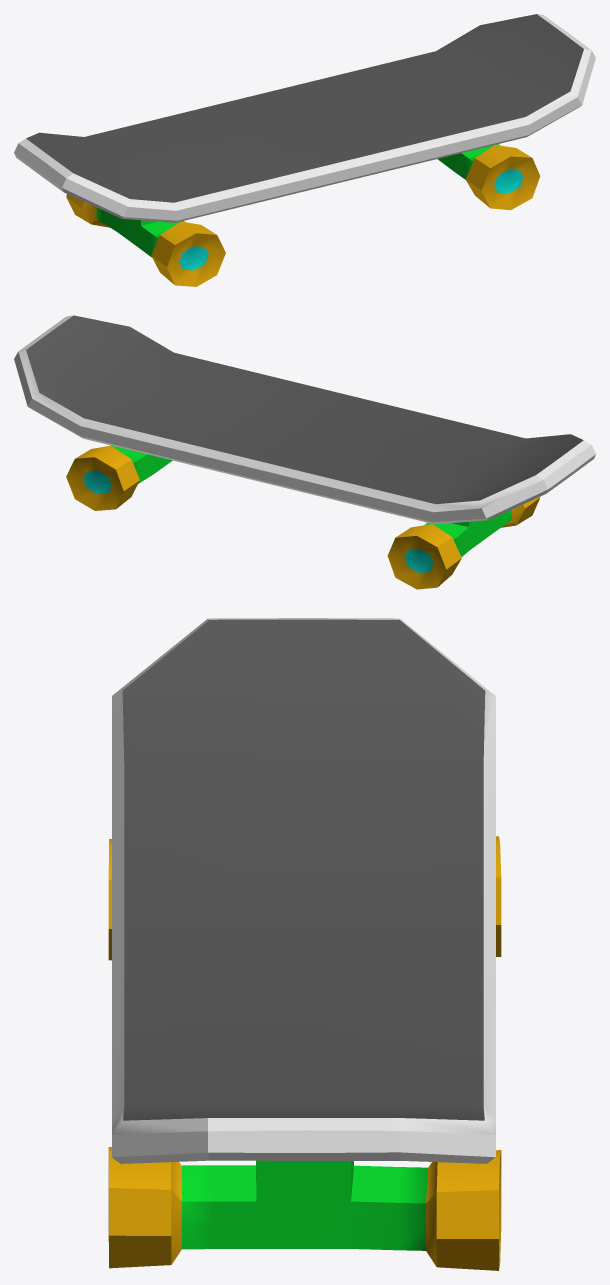
The model's file is SkateBoard.fbx.
3 views of the same model, one above another, from view 1: azimuth 30°, elevation 25°; view 2: azimuth 150°, elevation 25°; view 3: azimuth 270°, elevation 25° (orthographic). The views are drawn at different scales.
Parts seen in each view (by area): view 1: Skateboard; view 2: Skateboard; view 3: Skateboard.
Part boxes in pixels (x1,y1,x2,y2): Skateboard: (14, 14, 595, 286); Skateboard: (14, 315, 595, 589); Skateboard: (108, 618, 501, 1270).
Size of the model in its own units: 4.11 by 0.879 by 1.31.
